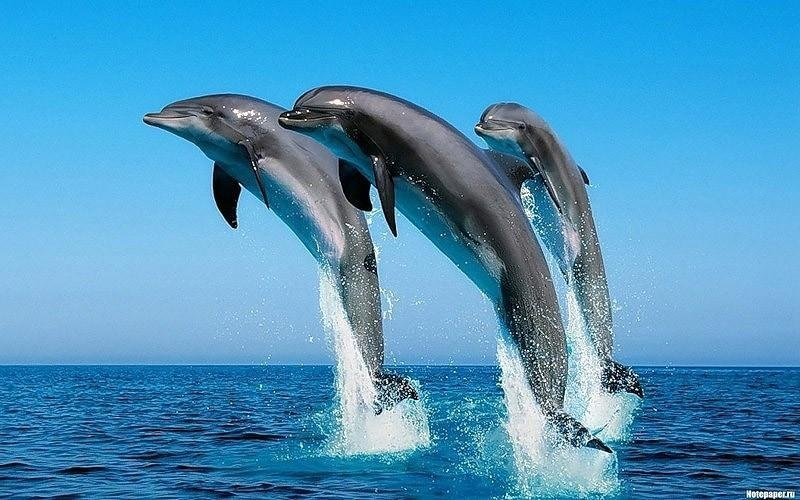fish: (280, 72, 621, 456), (140, 89, 422, 417), (471, 96, 651, 402)
